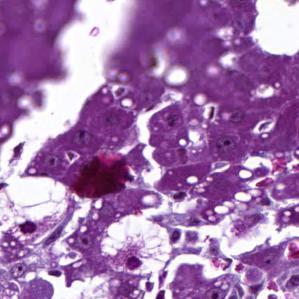ballooning: (4, 176, 77, 265), (99, 212, 173, 278)
